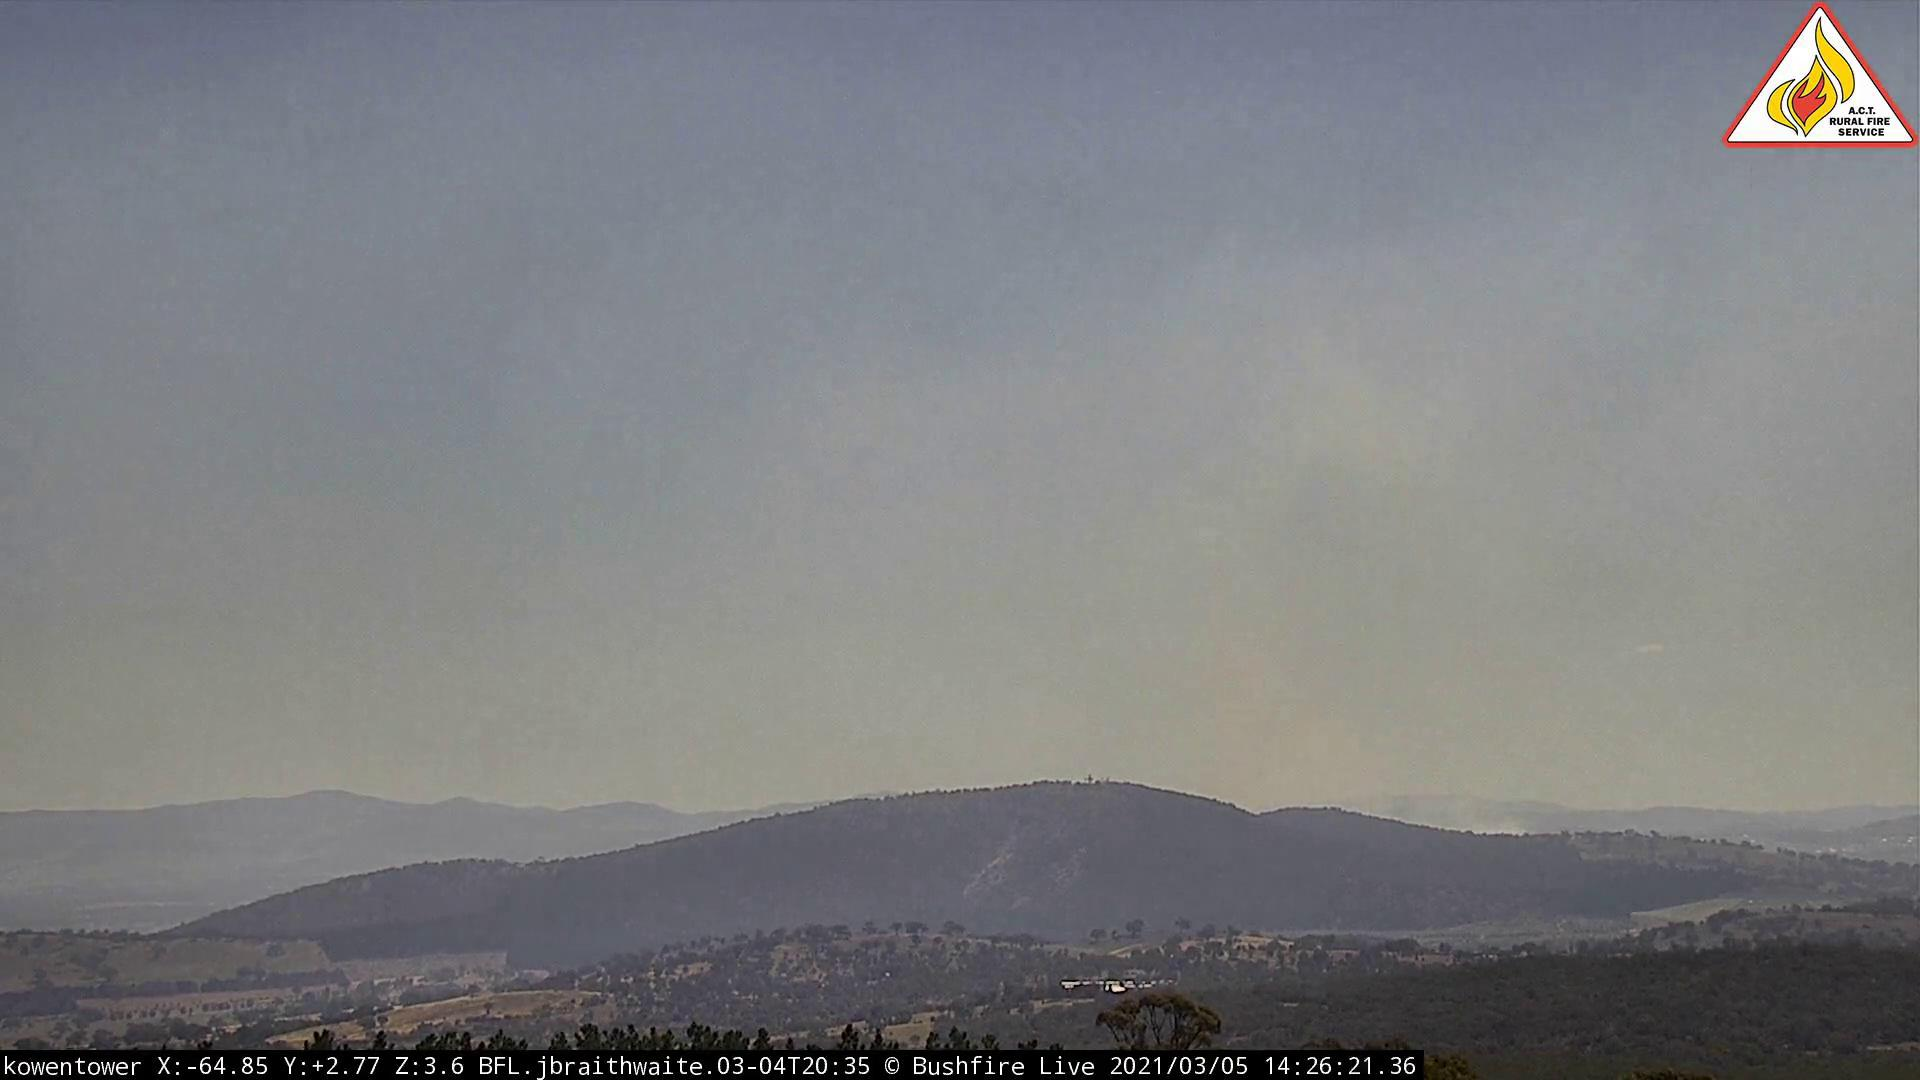Smoke: (1130, 496, 1543, 848)
